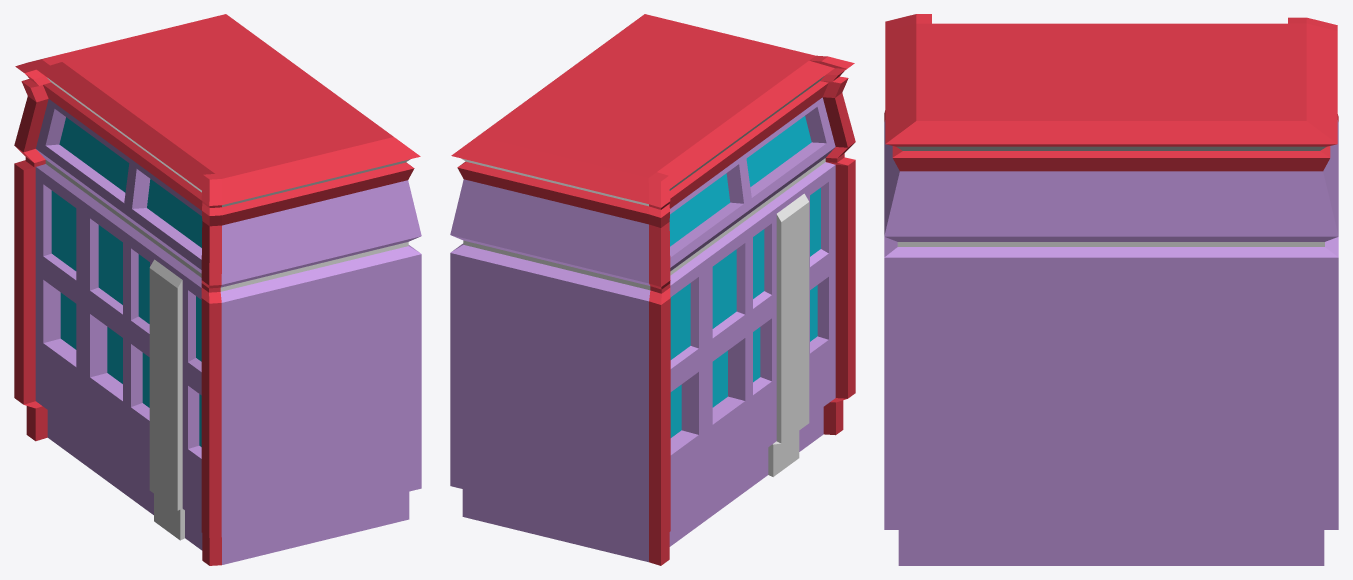
Rendered from FBX_SD_mShop3Top.fbx.
3 views of the same model, side by side, from view 1: azimuth 30°, elevation 25°; view 2: azimuth 150°, elevation 25°; view 3: azimuth 270°, elevation 25° (orthographic). The views are drawn at different scales.
Visible parts, largest first — view 1: FBX_SD_mShop3Top; view 2: FBX_SD_mShop3Top; view 3: FBX_SD_mShop3Top.
Part boxes in pixels (bbox=[...]): FBX_SD_mShop3Top: bbox=[14, 14, 421, 565]; FBX_SD_mShop3Top: bbox=[450, 14, 855, 565]; FBX_SD_mShop3Top: bbox=[884, 14, 1338, 565].
Bounding box in the file's own units: 692 × 1190 × 1103.
